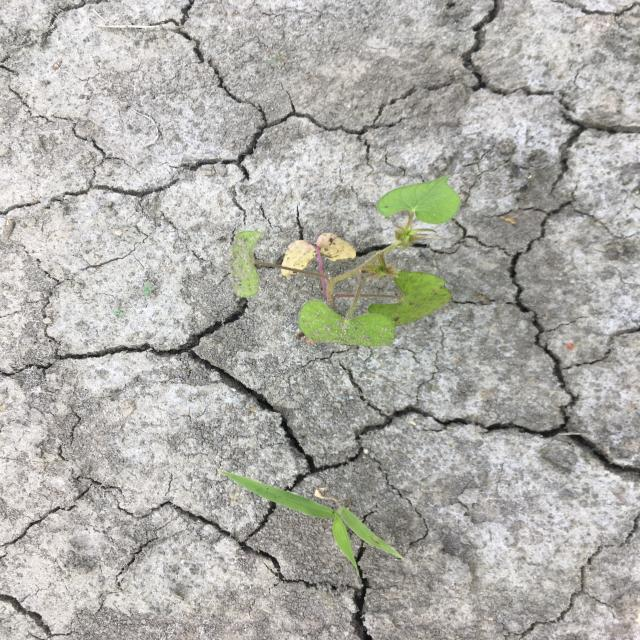MorningGlory: (228, 174, 462, 348)
